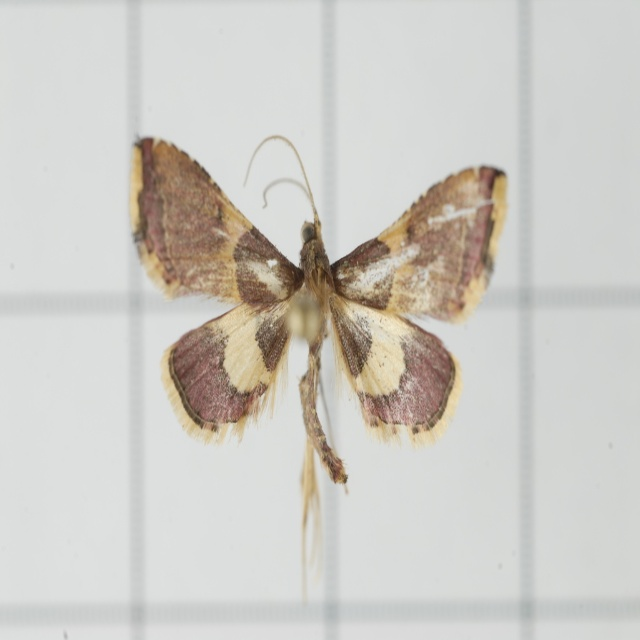Butterfly: (127, 134, 508, 602)
